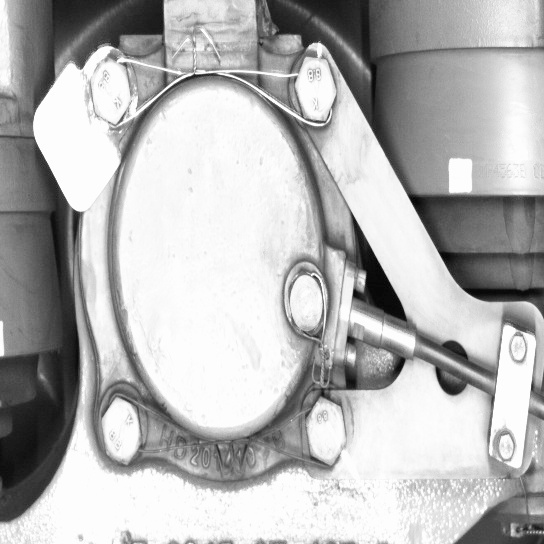IronWire: (85, 49, 342, 134), (94, 393, 349, 471)
Screw: (281, 251, 331, 344), (93, 392, 150, 472), (84, 50, 136, 133), (298, 389, 350, 469), (290, 49, 342, 128)
